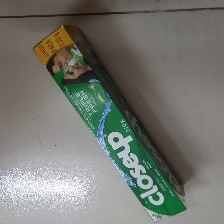CloseUp Xanh: (32, 24, 188, 223)
